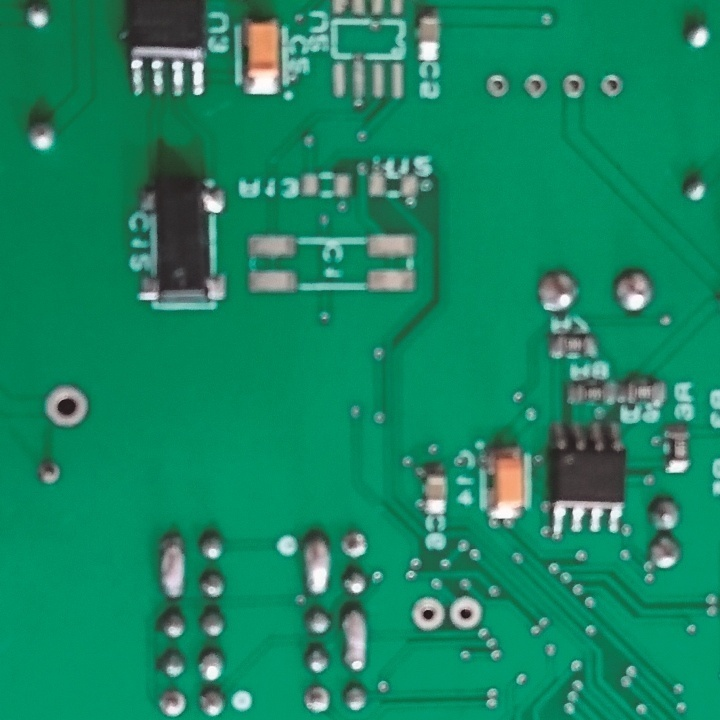F: (44, 381, 93, 433), (410, 595, 444, 632), (447, 595, 482, 630), (339, 529, 368, 560), (303, 683, 331, 715), (483, 71, 511, 101), (156, 691, 187, 718), (597, 71, 625, 100), (521, 70, 545, 100), (561, 70, 585, 100), (38, 462, 59, 486)
P: (337, 606, 370, 675), (159, 533, 186, 599), (302, 532, 327, 598)
